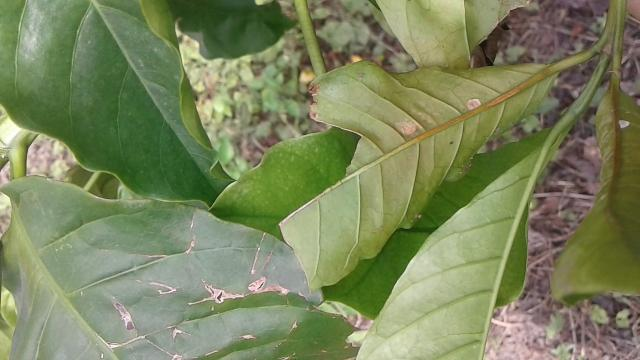rust_level_1: (278, 64, 556, 280)
